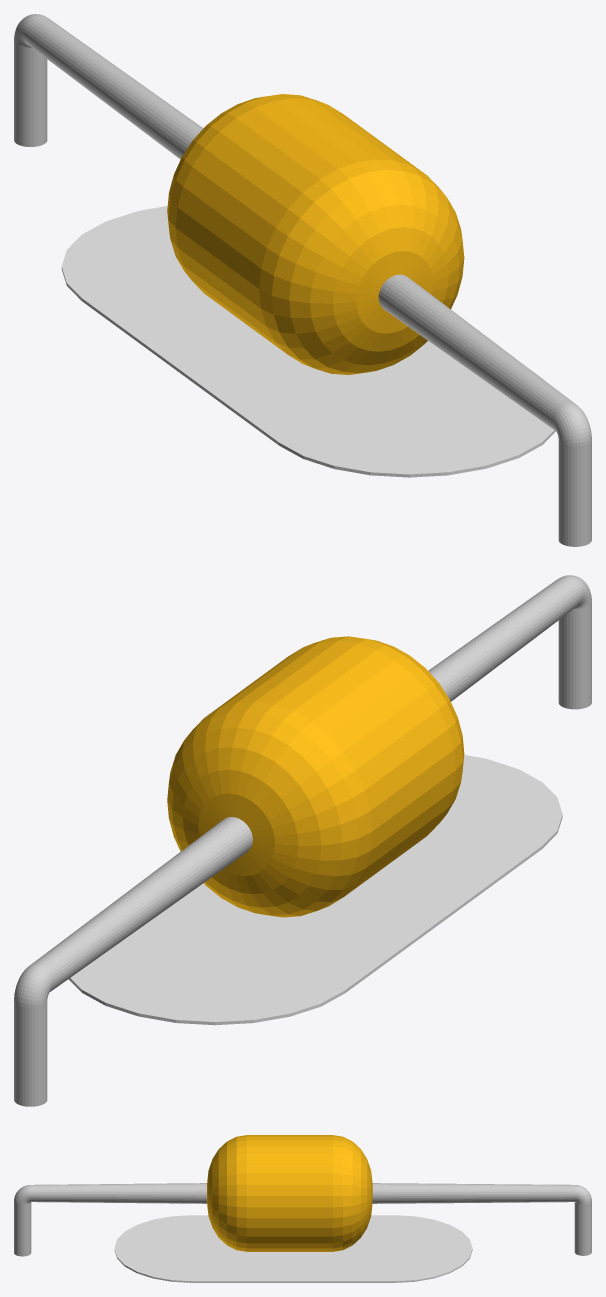
3 views of the same model, one above another, from view 1: azimuth 30°, elevation 25°; view 2: azimuth 150°, elevation 25°; view 3: azimuth 270°, elevation 25° (orthographic). The views are drawn at different scales.
Visible parts, largest first — view 1: Y_3, Y_3_plane; view 2: Y_3, Y_3_plane; view 3: Y_3, Y_3_plane.
Boxes of the visible parts, x1,y1,x2,y2 form: Y_3: (14, 14, 591, 546); Y_3_plane: (61, 206, 555, 477); Y_3: (14, 575, 591, 1106); Y_3_plane: (68, 755, 562, 1025); Y_3: (14, 1135, 591, 1256); Y_3_plane: (114, 1215, 472, 1282).
Bounding box in the file's own units: 0.018 × 0.0143 × 0.0666.
